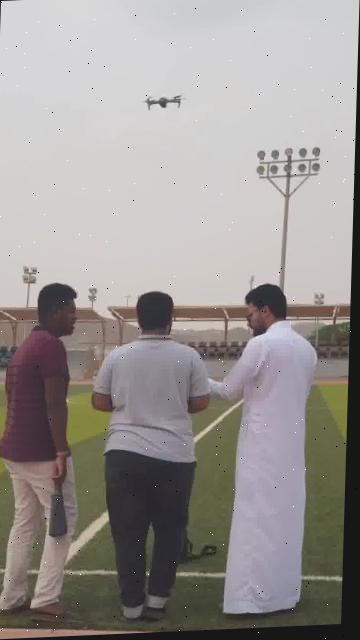drone: (139, 91, 186, 111)
